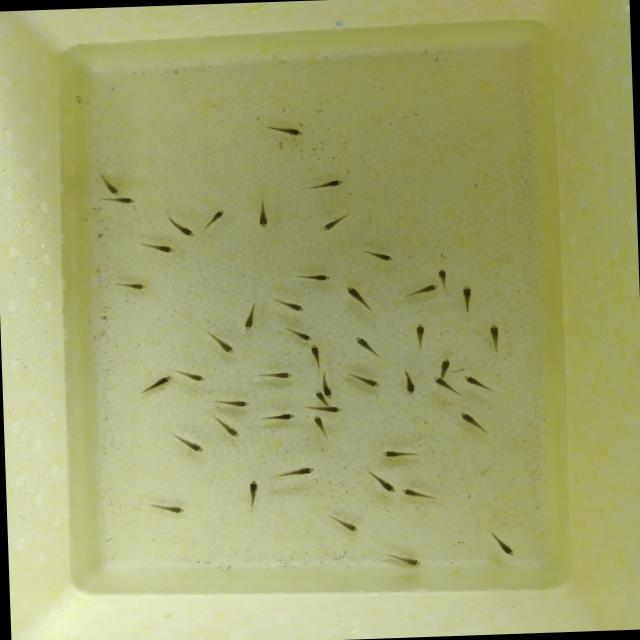fingerling: (320, 506, 365, 534), (309, 173, 352, 194), (402, 280, 438, 302), (425, 373, 458, 395), (268, 122, 310, 139), (489, 531, 516, 557), (346, 333, 379, 354), (169, 220, 199, 242), (397, 372, 420, 400), (340, 283, 366, 307), (180, 434, 208, 456), (313, 381, 342, 402), (375, 444, 413, 460), (388, 553, 425, 569), (216, 420, 244, 440), (458, 410, 483, 432), (219, 395, 253, 411), (351, 374, 385, 390), (141, 504, 195, 514), (484, 321, 504, 348), (211, 338, 240, 356), (410, 322, 430, 347), (308, 403, 346, 416), (281, 298, 308, 316), (95, 178, 122, 195), (461, 372, 486, 390), (284, 465, 316, 479), (256, 199, 270, 231), (372, 477, 398, 494), (308, 412, 328, 434), (150, 240, 176, 256), (318, 216, 342, 233), (290, 328, 317, 343), (248, 477, 262, 505), (208, 205, 225, 228), (393, 488, 432, 498), (367, 250, 398, 262), (119, 280, 150, 292), (182, 371, 210, 384), (436, 354, 454, 374), (267, 412, 296, 424), (307, 343, 324, 363), (461, 281, 473, 308), (264, 370, 296, 380), (105, 197, 140, 206), (306, 272, 332, 284), (150, 374, 172, 388), (242, 310, 255, 333), (435, 268, 450, 286), (312, 388, 326, 406)
